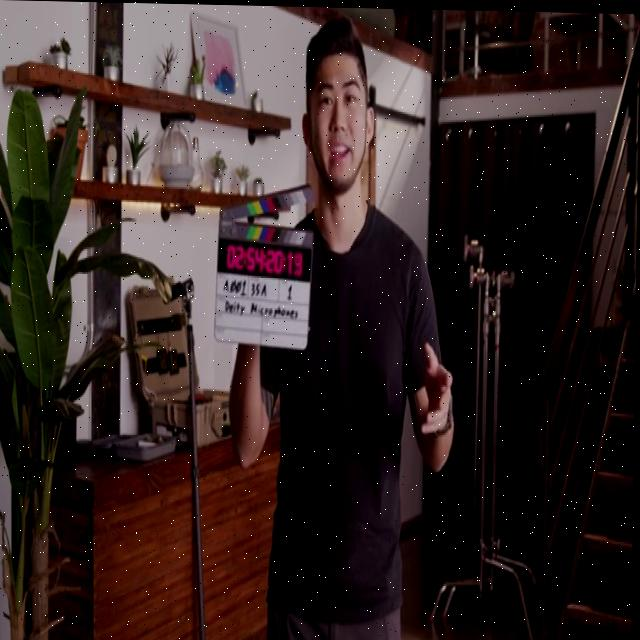Clapperboard: (213, 180, 314, 351)
